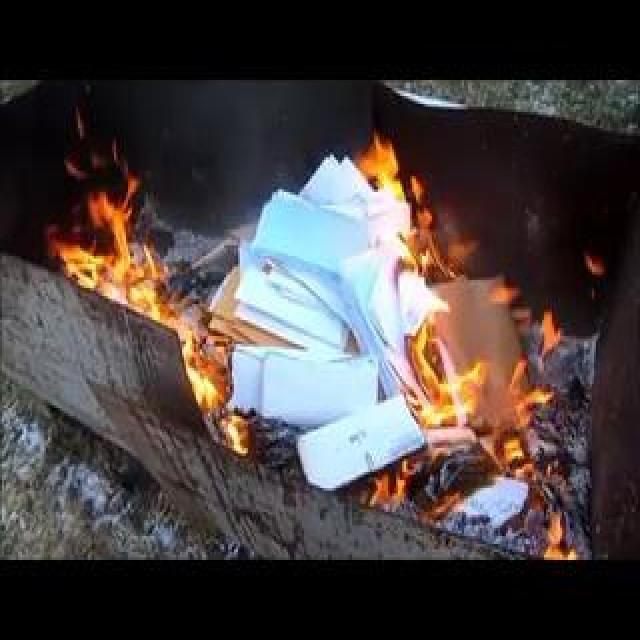Fire: (66, 202, 195, 352), (404, 302, 491, 424), (192, 363, 251, 458), (363, 127, 417, 216), (374, 466, 452, 506), (550, 514, 585, 564), (502, 438, 541, 482), (510, 362, 540, 402)
